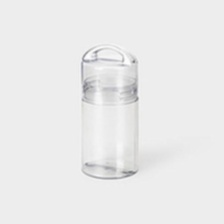plastic_box: (75, 37, 144, 187)
